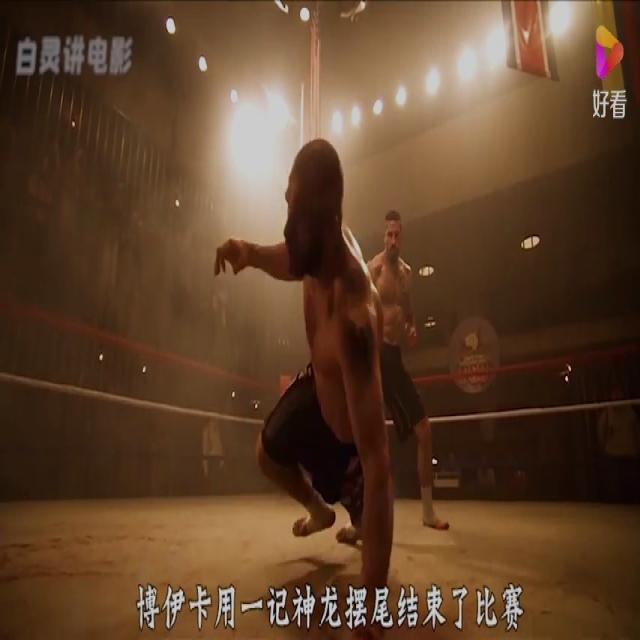fight: (215, 137, 450, 620)
